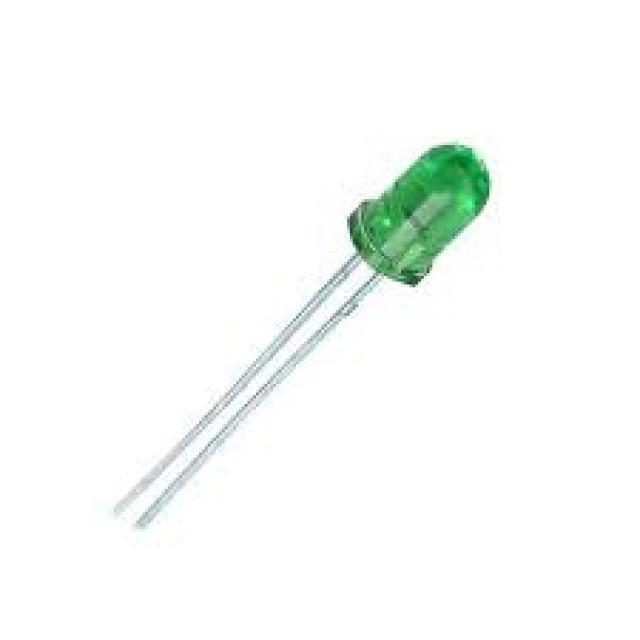Led: (116, 144, 490, 527)
